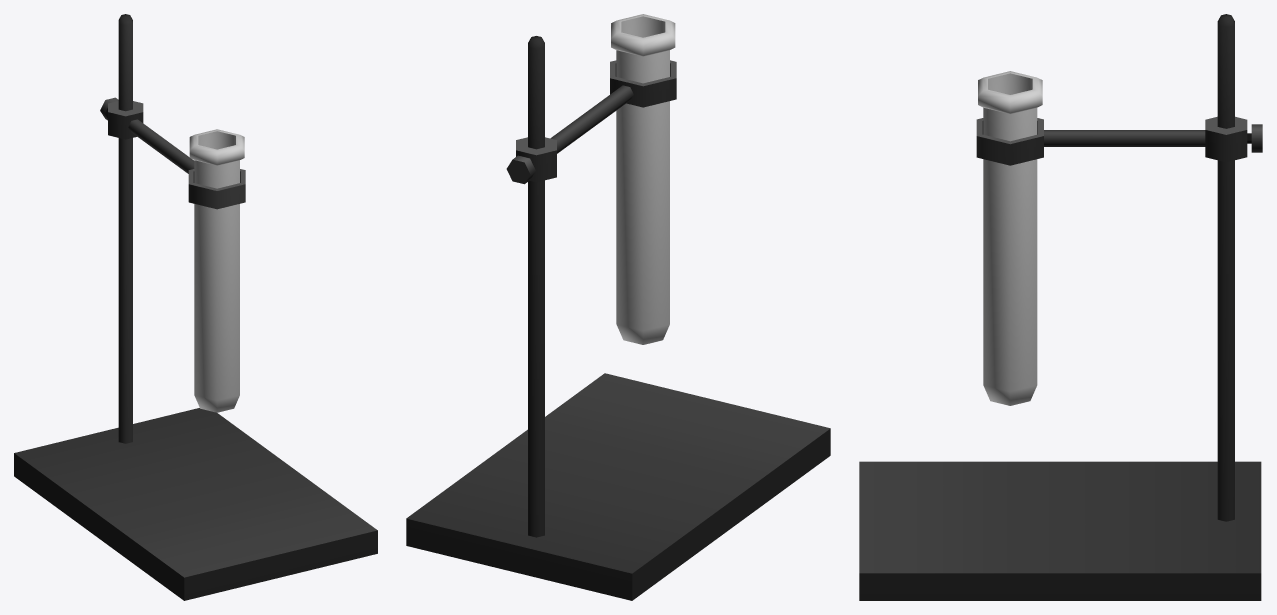
Rendered from CR_sci_Cylinder_003.FBX.
3 renders of one model, left to right at view 1: azimuth 30°, elevation 25°; view 2: azimuth 150°, elevation 25°; view 3: azimuth 270°, elevation 25°, orthographic. The views are drawn at different scales.
Parts seen in each view (by area): view 1: CR_sci_Cylinder_003, CR_sci_Cylinder_003_al; view 2: CR_sci_Cylinder_003, CR_sci_Cylinder_003_al; view 3: CR_sci_Cylinder_003, CR_sci_Cylinder_003_al.
Part boxes in pixels (x1,y1,x2,y2): CR_sci_Cylinder_003: (14,14,377,600); CR_sci_Cylinder_003_al: (189,129,244,412); CR_sci_Cylinder_003: (406,36,830,600); CR_sci_Cylinder_003_al: (611,14,675,344); CR_sci_Cylinder_003: (859,14,1262,600); CR_sci_Cylinder_003_al: (978,71,1042,405).
Size of the model in its own units: 9.14 by 20.19 by 13.96.
